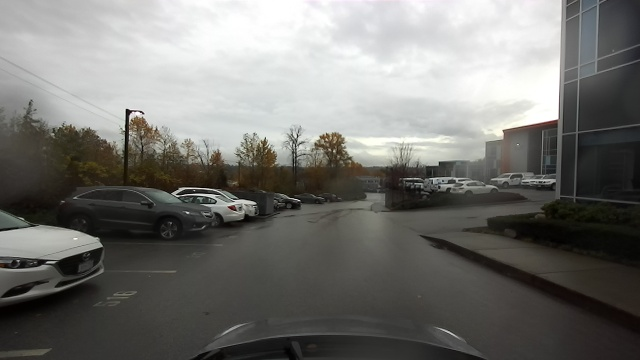car: (1, 208, 107, 307), (59, 181, 217, 239), (214, 198, 246, 226), (449, 181, 499, 198), (491, 171, 536, 187), (522, 173, 555, 191), (423, 176, 452, 195), (293, 189, 323, 207), (274, 193, 302, 211), (398, 178, 423, 189), (321, 190, 340, 204)
